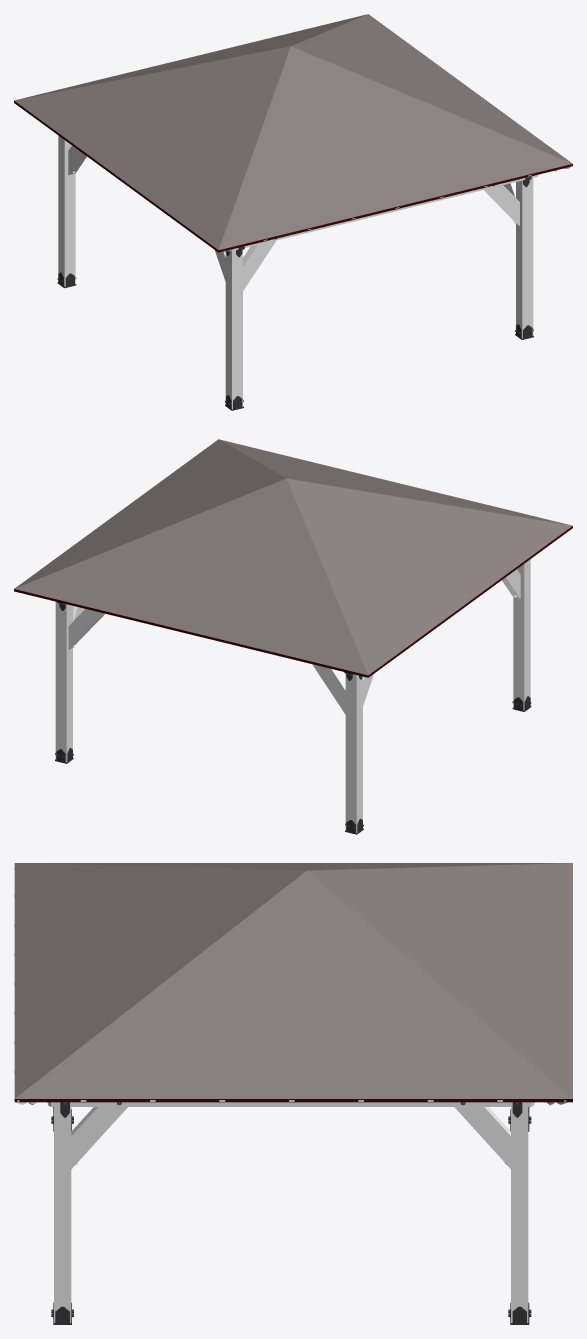
The model's file is saratoga-16x16-ogee.obj.
The picture shows the model from 3 angles, top to bottom: view 1: azimuth 30°, elevation 25°; view 2: azimuth 150°, elevation 25°; view 3: azimuth 270°, elevation 25°; orthographic projection. The views are drawn at different scales.
Parts seen in each view (by area): view 1: Mesh234 shingles roof Group1 Model, Mesh185 Group71 Component_92_4 Group2 Group1 Model, Mesh87 Group43 Component_92_2 Group2 Group1 Model, Mesh136 Group57 Component_92_3 Group2 Group1 Model, Mesh235 roof Group1 Model, Mesh83 Component_135_1 Group2 Group1 Model, Mesh225 Component_91_7 Component_92_4 Group2 Group1 Model, Mesh127 Component_91_3 Component_92_2 Group2 Group1 Model; view 2: Mesh234 shingles roof Group1 Model, Mesh136 Group57 Component_92_3 Group2 Group1 Model, Mesh1 Group4 Component_92_1 Group3 Group2 Group1 Model, Mesh185 Group71 Component_92_4 Group2 Group1 Model, Mesh235 roof Group1 Model, Mesh176 Component_91_5 Component_92_3 Group2 Group1 Model, Mesh41 Component_91_1 Component_92_1 Group3 Group2 Group1 Model; view 3: Mesh234 shingles roof Group1 Model, Mesh1 Group4 Component_92_1 Group3 Group2 Group1 Model, Mesh87 Group43 Component_92_2 Group2 Group1 Model, Mesh86 Component_134_2 Group2 Group1 Model, Mesh235 roof Group1 Model, Mesh131 Component_91_4 Component_92_2 Group2 Group1 Model, Mesh45 Component_91_2 Component_92_1 Group3 Group2 Group1 Model.
Part boxes in pixels (left/top/right/bottom): Mesh234 shingles roof Group1 Model: left=14, top=14, right=572, bottom=250; Mesh185 Group71 Component_92_4 Group2 Group1 Model: left=225, top=249, right=242, bottom=409; Mesh87 Group43 Component_92_2 Group2 Group1 Model: left=516, top=178, right=533, bottom=338; Mesh136 Group57 Component_92_3 Group2 Group1 Model: left=58, top=135, right=75, bottom=286; Mesh235 roof Group1 Model: left=14, top=101, right=572, bottom=252; Mesh83 Component_135_1 Group2 Group1 Model: left=229, top=175, right=537, bottom=251; Mesh225 Component_91_7 Component_92_4 Group2 Group1 Model: left=243, top=240, right=276, bottom=290; Mesh127 Component_91_3 Component_92_2 Group2 Group1 Model: left=484, top=185, right=519, bottom=225; Mesh234 shingles roof Group1 Model: left=14, top=439, right=572, bottom=675; Mesh136 Group57 Component_92_3 Group2 Group1 Model: left=345, top=673, right=362, bottom=833; Mesh1 Group4 Component_92_1 Group3 Group2 Group1 Model: left=55, top=602, right=72, bottom=762; Mesh185 Group71 Component_92_4 Group2 Group1 Model: left=513, top=559, right=530, bottom=710; Mesh235 roof Group1 Model: left=14, top=526, right=572, bottom=677; Mesh176 Component_91_5 Component_92_3 Group2 Group1 Model: left=312, top=664, right=345, bottom=714; Mesh41 Component_91_1 Component_92_1 Group3 Group2 Group1 Model: left=68, top=609, right=104, bottom=649; Mesh234 shingles roof Group1 Model: left=14, top=863, right=572, bottom=1098; Mesh1 Group4 Component_92_1 Group3 Group2 Group1 Model: left=511, top=1107, right=528, bottom=1322; Mesh87 Group43 Component_92_2 Group2 Group1 Model: left=54, top=1107, right=71, bottom=1322; Mesh86 Component_134_2 Group2 Group1 Model: left=59, top=1102, right=522, bottom=1106; Mesh235 roof Group1 Model: left=14, top=1099, right=572, bottom=1102; Mesh131 Component_91_4 Component_92_2 Group2 Group1 Model: left=71, top=1107, right=127, bottom=1168; Mesh45 Component_91_2 Component_92_1 Group3 Group2 Group1 Model: left=454, top=1107, right=510, bottom=1168.
Size of the model in its own units: 193 by 135 by 193.
